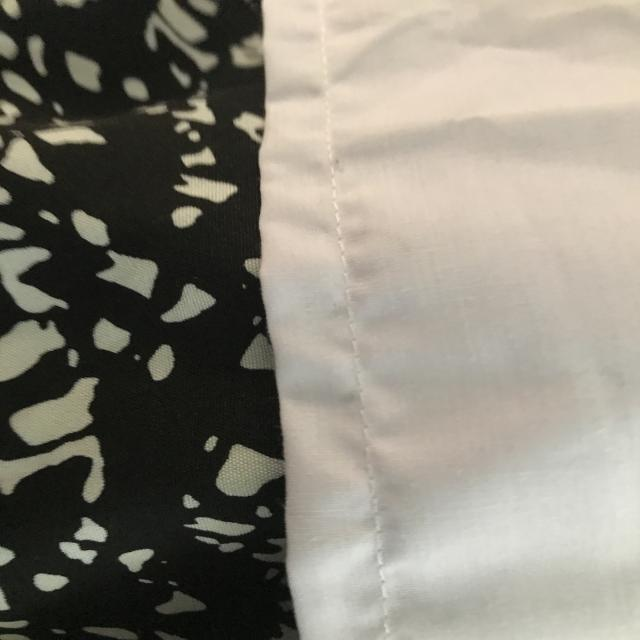good: (316, 204, 387, 299)
